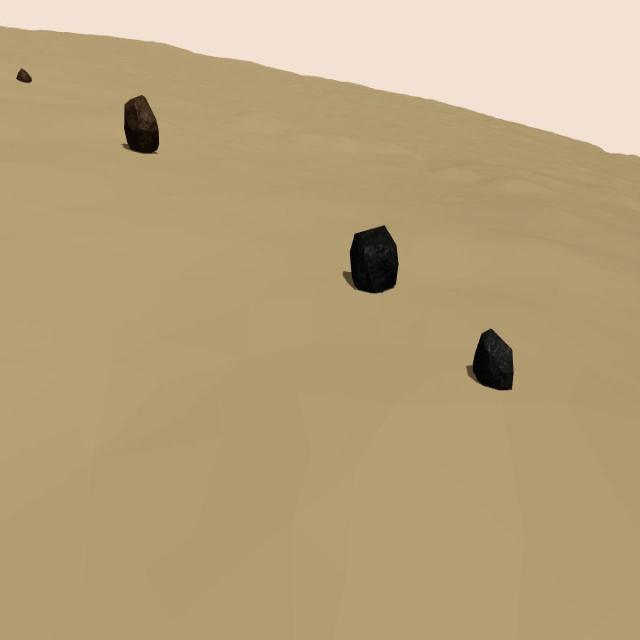rock: (349, 225, 398, 292), (472, 328, 514, 391), (124, 94, 160, 154), (16, 68, 32, 82)
